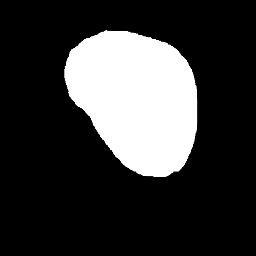mass: (67, 25, 195, 175)
